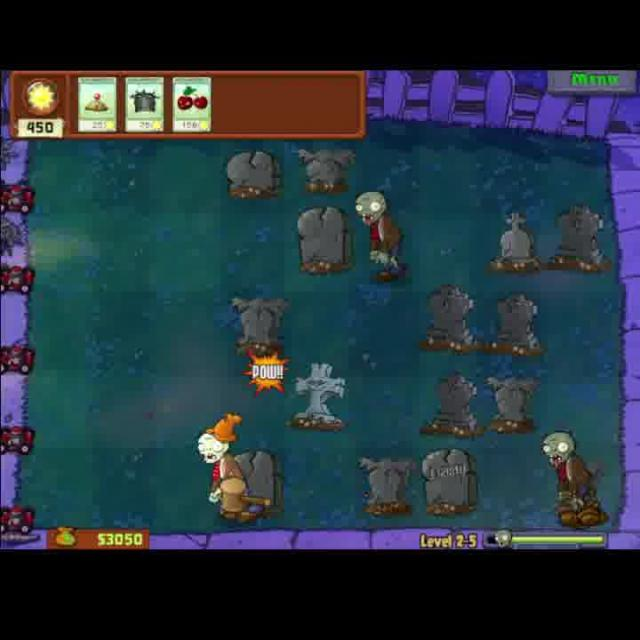coins: (536, 421, 600, 529), (190, 410, 246, 528), (351, 188, 408, 284)
